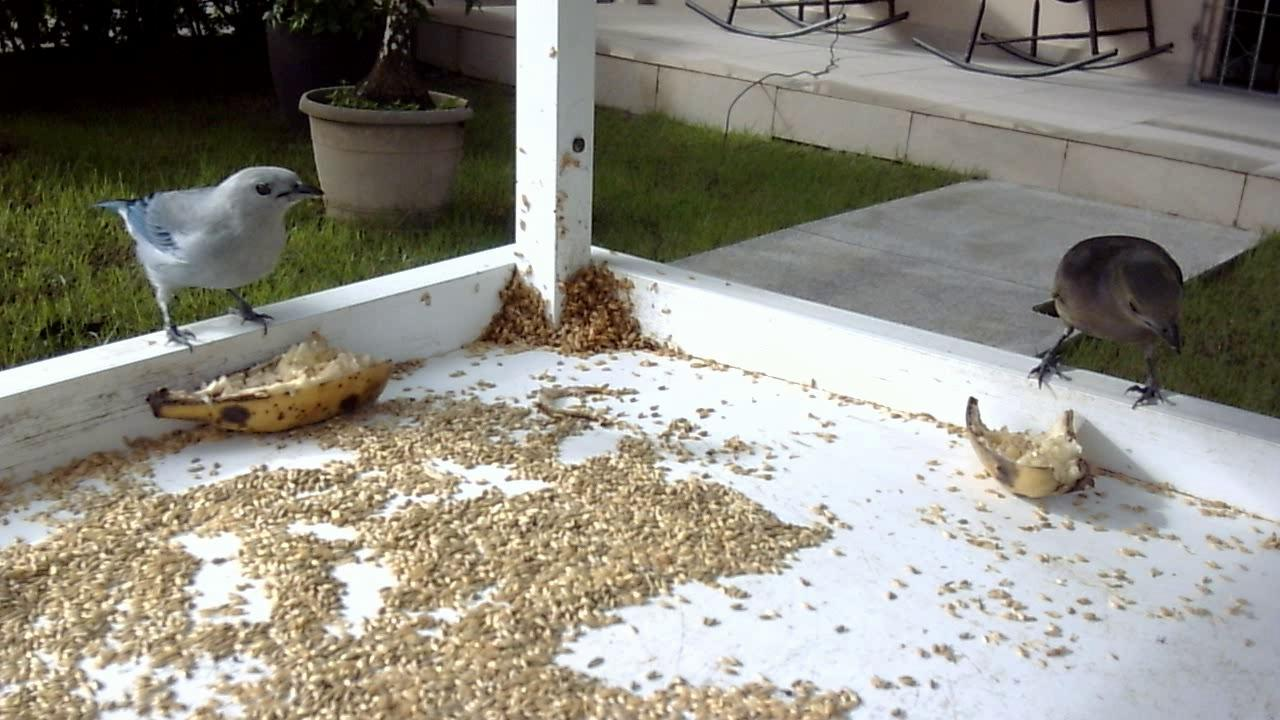sanhaco_da_amazonia: (85, 157, 327, 362)
sanhaco_do_coqueiro: (1016, 217, 1199, 423)
